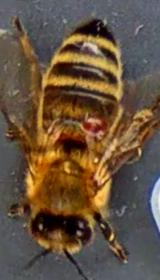varroa_mite: (66, 103, 121, 144)
